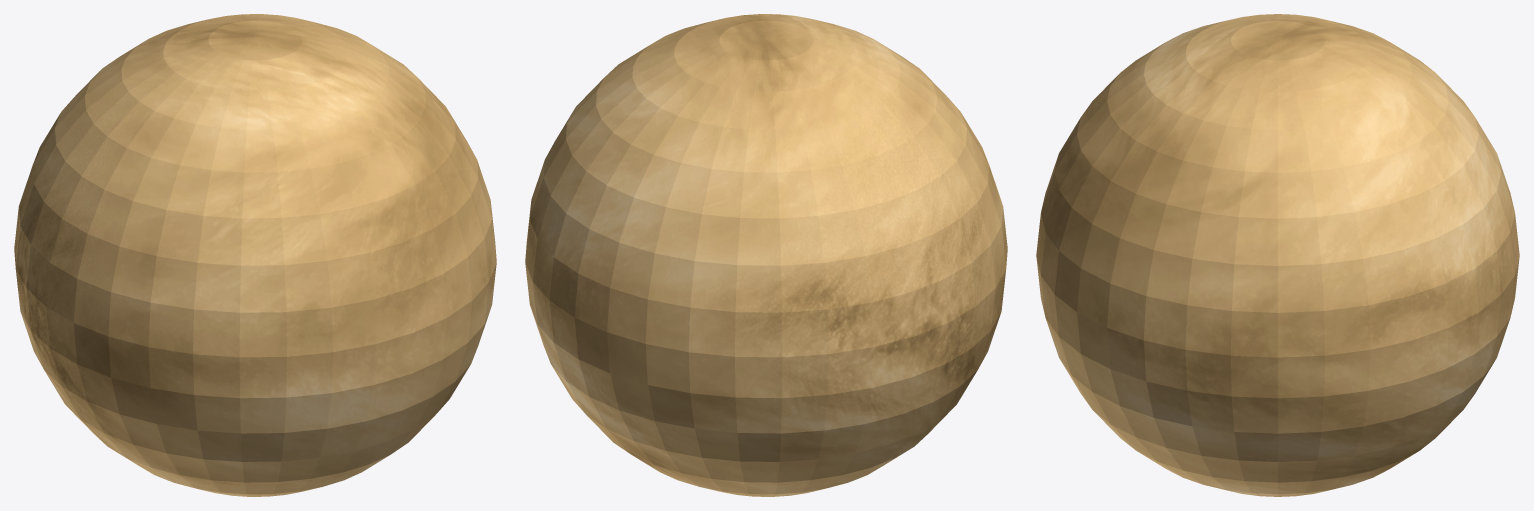
Rendered from Earth.obj.
3 renders of one model, left to right at view 1: azimuth 30°, elevation 25°; view 2: azimuth 150°, elevation 25°; view 3: azimuth 270°, elevation 25°, orthographic.
Parts seen in each view (by area): view 1: Earth_Sphere.001; view 2: Earth_Sphere.001; view 3: Earth_Sphere.001.
Part boxes in pixels (<box>): Earth_Sphere.001: <box>14,14,496,496</box>; Earth_Sphere.001: <box>525,14,1007,496</box>; Earth_Sphere.001: <box>1036,14,1519,496</box>.
Size of the model in its own units: 2 by 1.99 by 2.
1 material, 1 textured.
